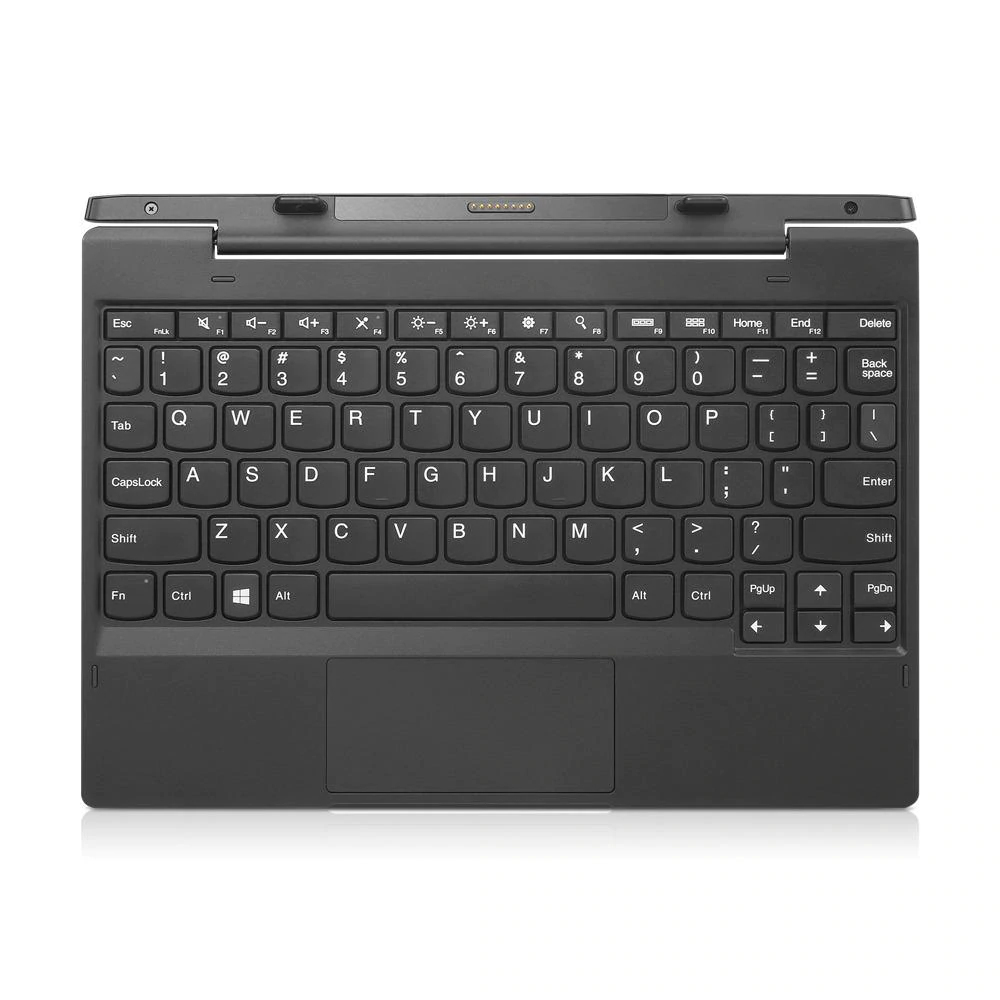keyboard: (89, 292, 912, 645)
